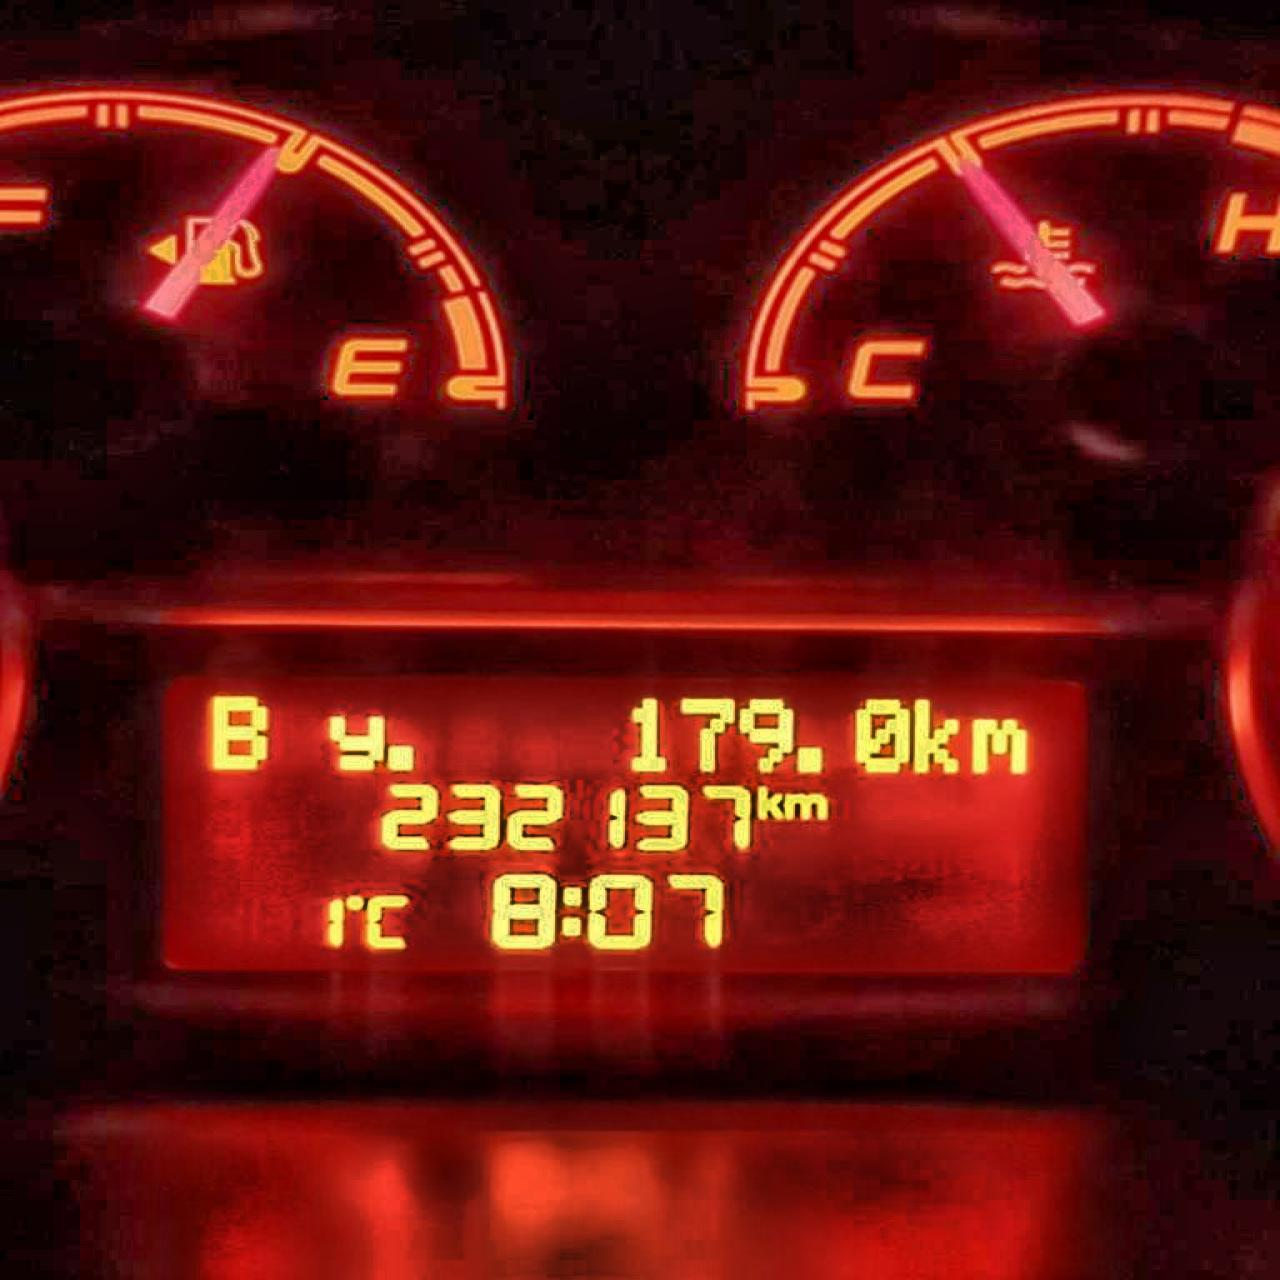-: (794, 744, 824, 775), (384, 741, 415, 771)
0: (585, 872, 653, 948), (851, 697, 912, 774)
1: (626, 696, 667, 772), (604, 788, 627, 849), (321, 897, 346, 947)
2: (376, 781, 438, 851), (504, 783, 564, 851)
3: (632, 781, 690, 851), (442, 782, 501, 850)
7: (676, 695, 735, 772), (663, 872, 723, 946), (700, 783, 750, 852)
8: (486, 871, 557, 949)
9: (734, 696, 794, 774)
X: (205, 694, 270, 771), (910, 696, 960, 775), (968, 716, 1028, 774), (327, 713, 386, 770), (362, 892, 410, 949), (557, 885, 584, 938), (782, 791, 829, 821), (755, 784, 783, 821)
odometer: (154, 666, 1094, 979)
